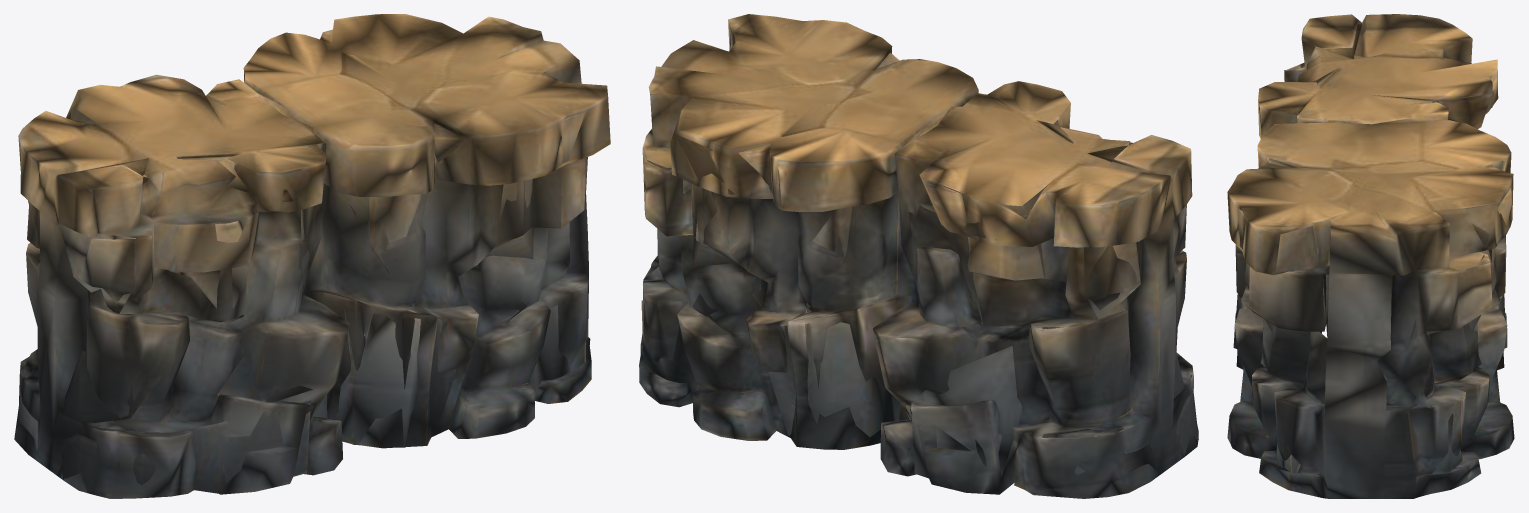
File: stonecliff-bastion.glb
The picture shows the model from 3 angles, left to right: view 1: azimuth 30°, elevation 25°; view 2: azimuth 150°, elevation 25°; view 3: azimuth 270°, elevation 25°; orthographic projection. The views are drawn at different scales.
Parts seen in each view (by area): view 1: StonecliffBastion_Meshy; view 2: StonecliffBastion_Meshy; view 3: StonecliffBastion_Meshy.
Part boxes in pixels (x1,y1,x2,y2): StonecliffBastion_Meshy: [14, 14, 610, 498]; StonecliffBastion_Meshy: [639, 14, 1198, 498]; StonecliffBastion_Meshy: [1227, 14, 1514, 498].
Size of the model in its own units: 1 by 0.5566 by 0.5488.
1 material, 1 textured.
